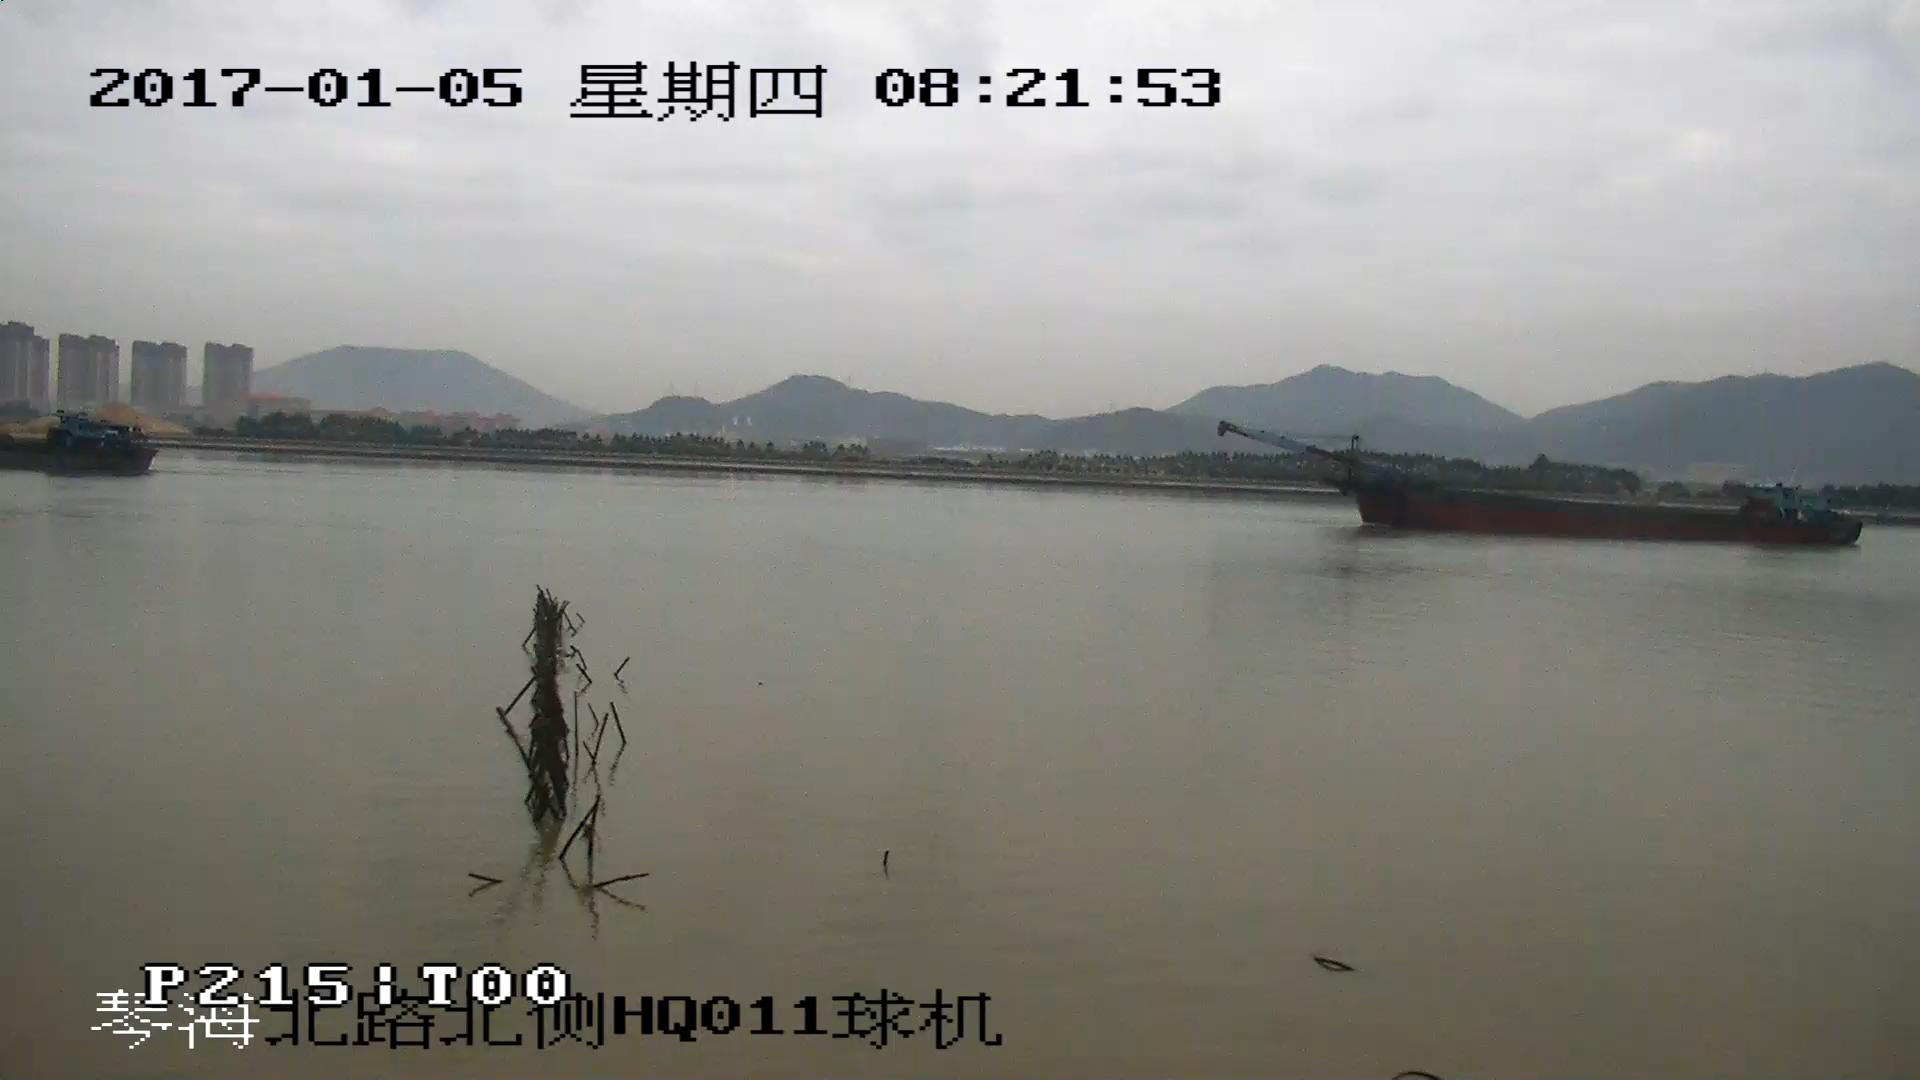bulk cargo carrier: (1222, 429, 1862, 546), (1, 415, 153, 474)
